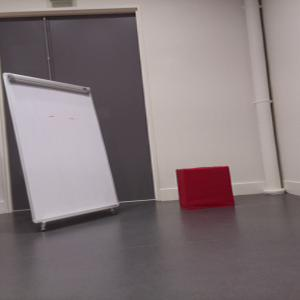big: (3, 70, 119, 224)
medium: (175, 165, 235, 210)
